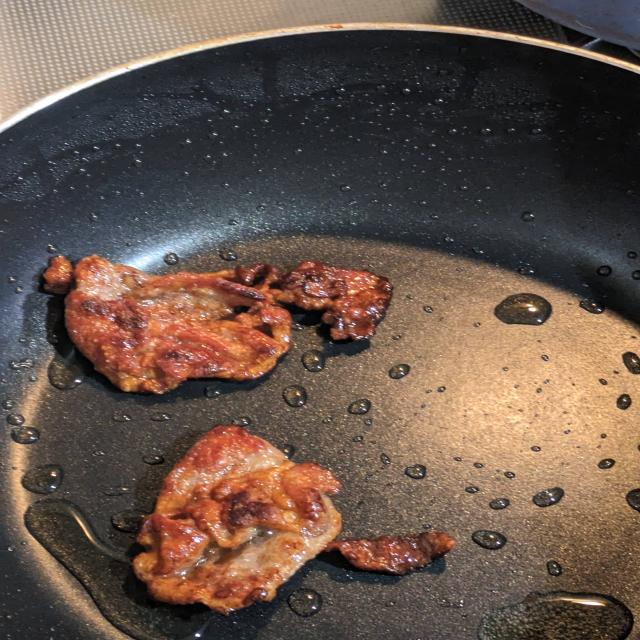overcooked pork: (119, 412, 474, 626), (24, 251, 401, 401)
